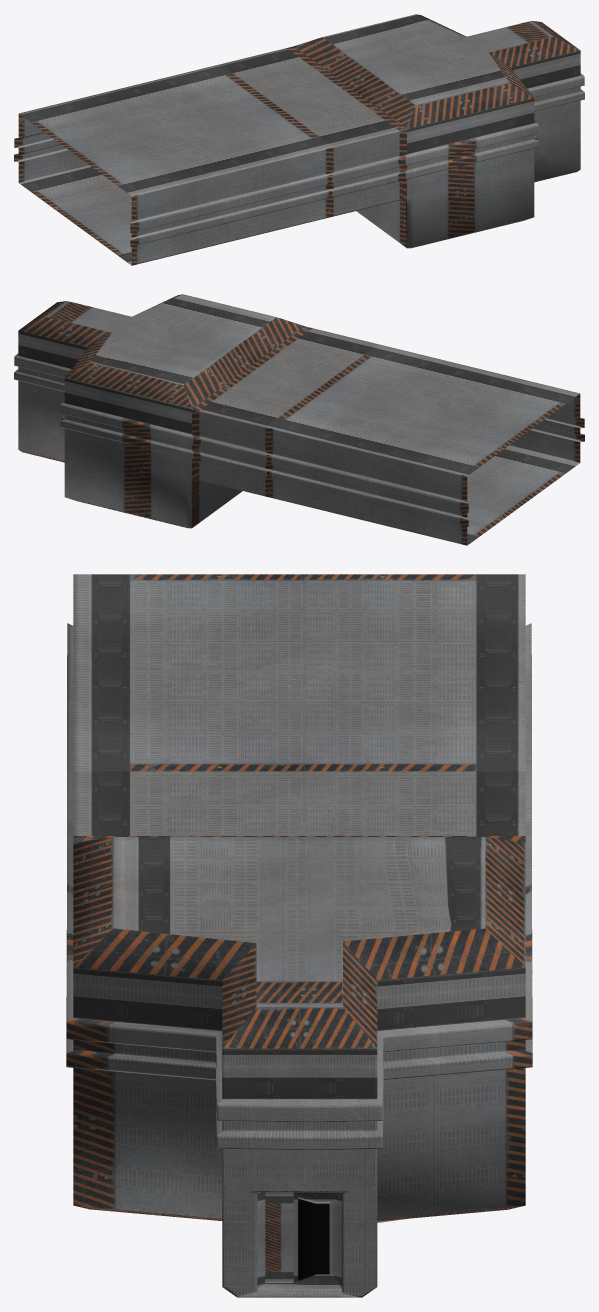
The model's file is Sci Fi Room Game.fbx.
3 renders of one model, top to bottom at view 1: azimuth 30°, elevation 25°; view 2: azimuth 150°, elevation 25°; view 3: azimuth 270°, elevation 25°, orthographic. The views are drawn at different scales.
Visible parts, largest first — view 1: Cube; view 2: Cube; view 3: Cube.
Part boxes in pixels (left/top/right/bottom): Cube: left=14, top=14, right=584, bottom=265; Cube: left=14, top=294, right=584, bottom=545; Cube: left=66, top=574, right=532, bottom=1297.
Size of the model in its own units: 2090 by 553 by 856.
